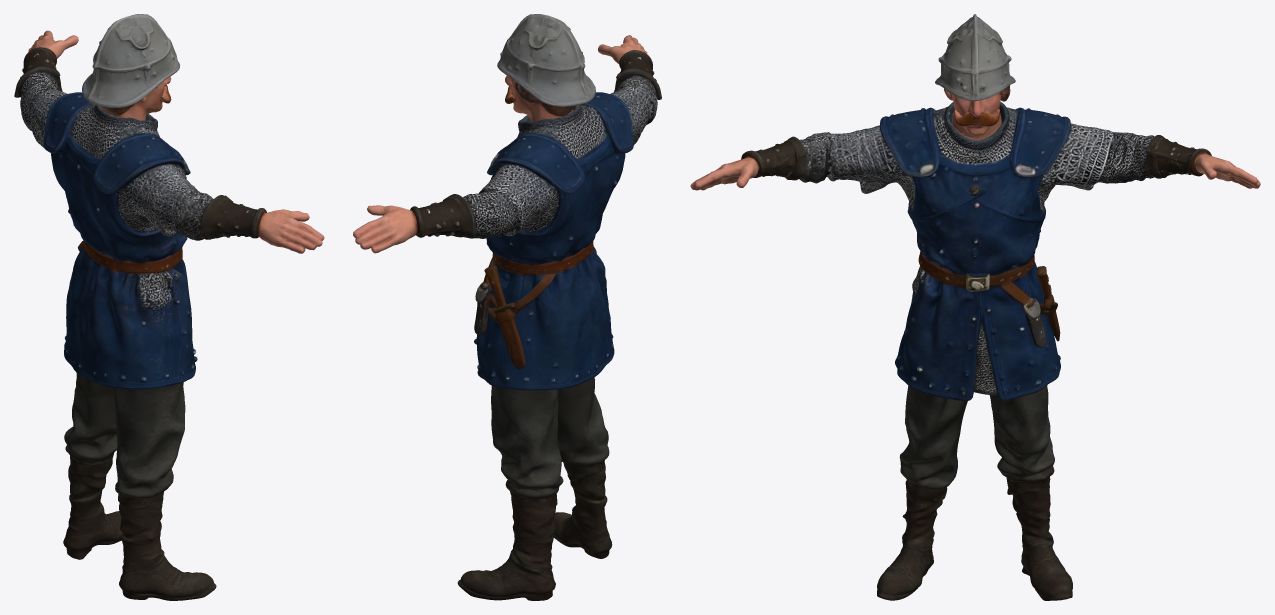
3 renders of one model, left to right at view 1: azimuth 30°, elevation 25°; view 2: azimuth 150°, elevation 25°; view 3: azimuth 270°, elevation 25°, orthographic. The views are drawn at different scales.
Visible parts, largest first — view 1: tripo_node_2c2801b5-2995-4d82-be94-90c6652aecf5; view 2: tripo_node_2c2801b5-2995-4d82-be94-90c6652aecf5; view 3: tripo_node_2c2801b5-2995-4d82-be94-90c6652aecf5.
Boxes of the visible parts, x1,y1,x2,y2 form: tripo_node_2c2801b5-2995-4d82-be94-90c6652aecf5: (14, 14, 324, 600); tripo_node_2c2801b5-2995-4d82-be94-90c6652aecf5: (353, 14, 661, 600); tripo_node_2c2801b5-2995-4d82-be94-90c6652aecf5: (690, 14, 1260, 600).
Size of the model in its own units: 0.2276 by 1 by 0.9128.
1 material, 1 textured.
